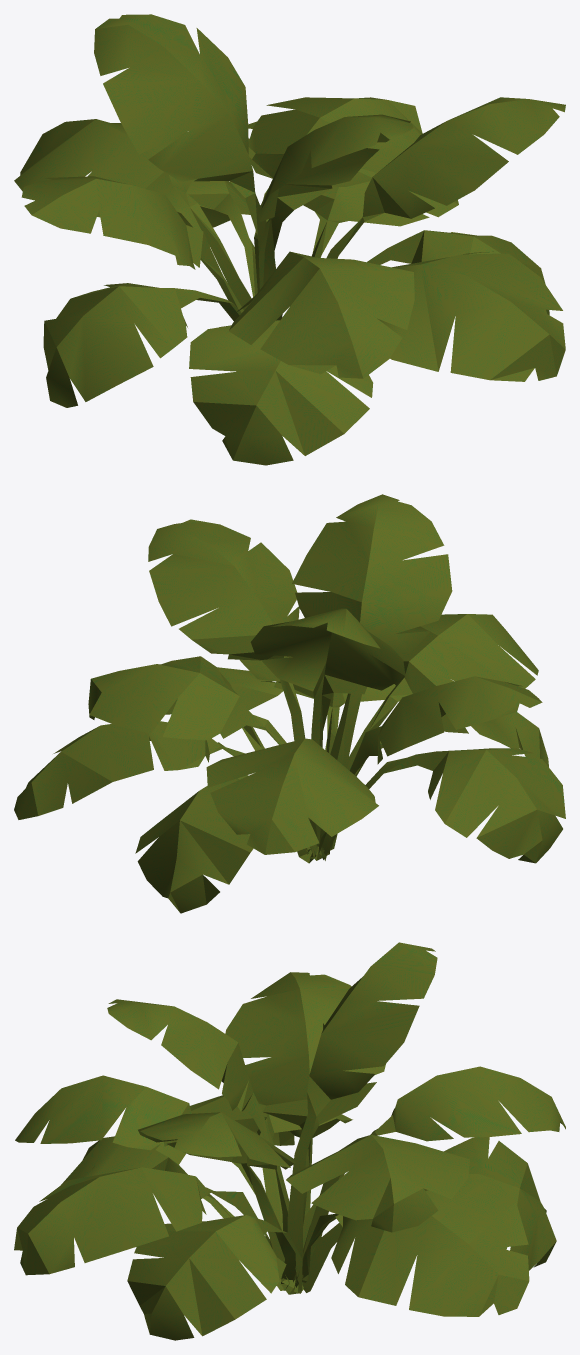
The model's file is Plant_09.fbx.
The picture shows the model from 3 angles, top to bottom: view 1: azimuth 30°, elevation 25°; view 2: azimuth 150°, elevation 25°; view 3: azimuth 270°, elevation 25°; orthographic projection. The views are drawn at different scales.
Visible parts, largest first — view 1: polySurface12; view 2: polySurface12; view 3: polySurface12.
Boxes of the visible parts, x1,y1,x2,y2 form: polySurface12: (14,14,565,465); polySurface12: (14,494,565,913); polySurface12: (14,942,565,1340).
Size of the model in its own units: 180 by 122 by 196.
